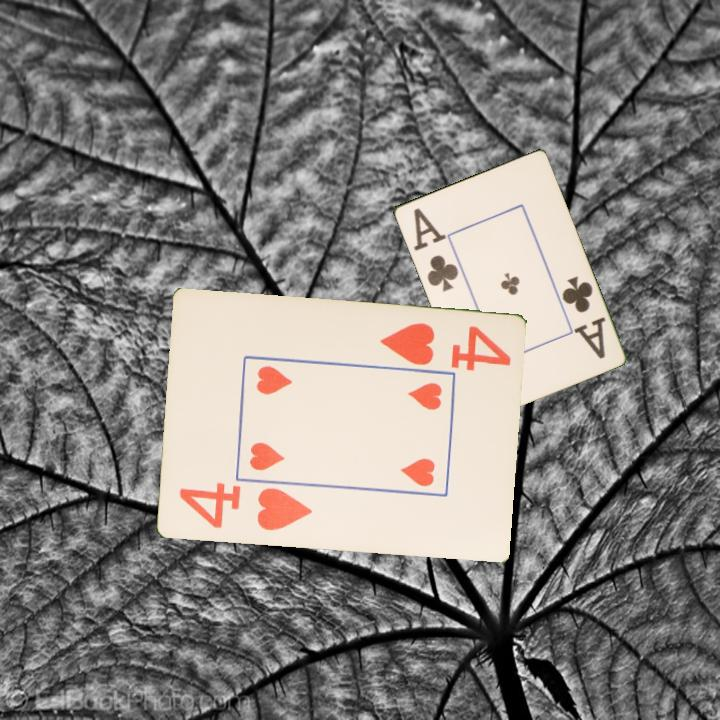4h: (175, 480, 314, 534), (376, 319, 513, 372)
Ac: (409, 204, 461, 295), (558, 272, 608, 362)
